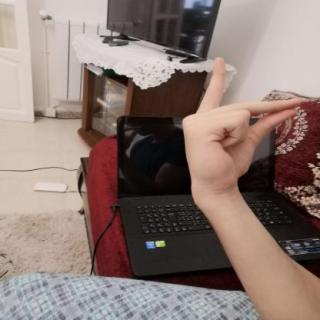TAA: (174, 50, 308, 201)
